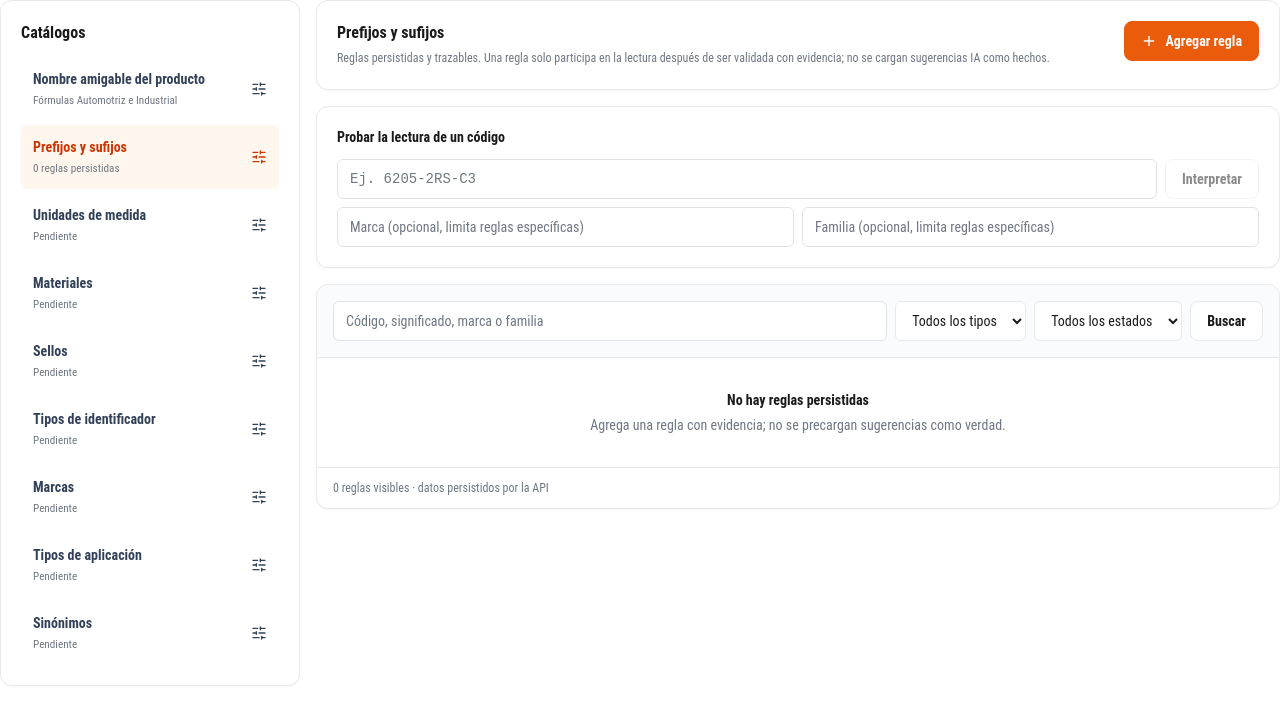
Test: OperationsSecondaryWorkspace › conecta el catálogo de prefijos y sufijos sin precargar sugerencias ficticias
This screenshot has width=1280, height=714.
Check: the text "No hay reglas persistidas" is shown, box [727,392,869,408]
Click the button "Agregar regla": x=1192, y=41 [1124,21,1259,61]
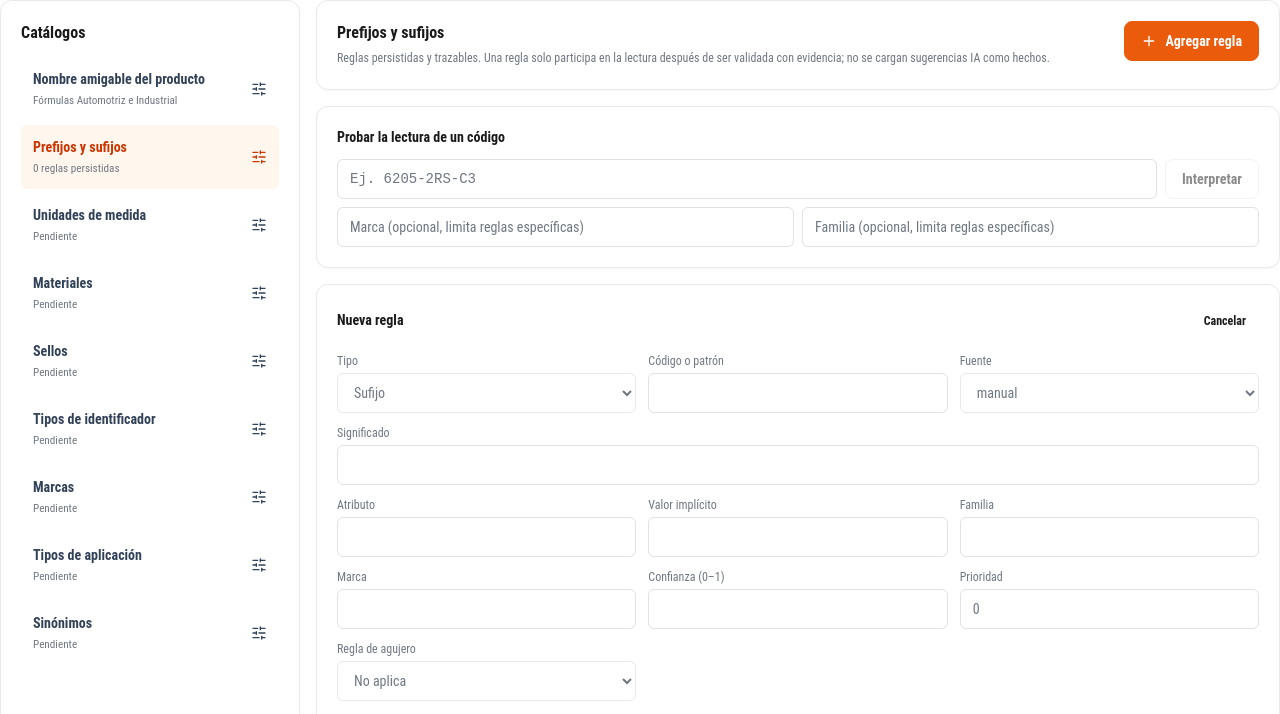
Check: the heading "Nueva regla" is shown, box [337,310,404,331]
